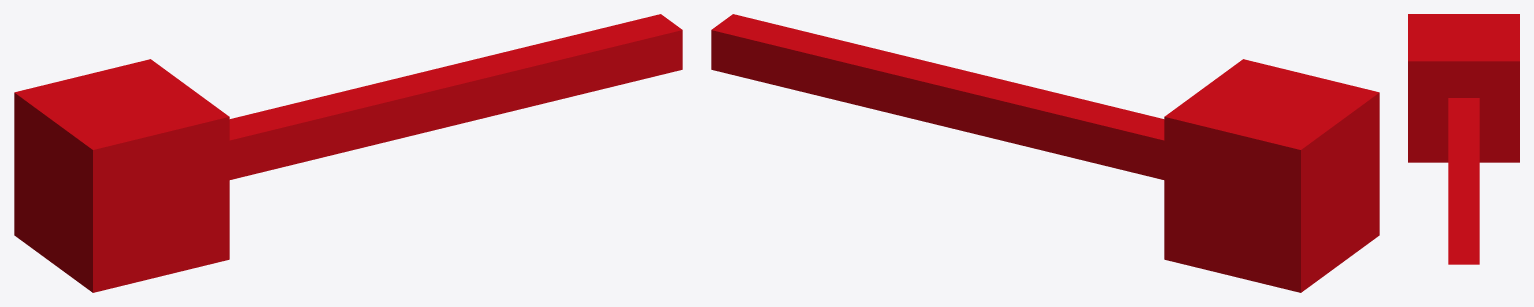
Rendered from scale-gizmo-x.glb.
The picture shows the model from 3 angles, left to right: view 1: azimuth 30°, elevation 25°; view 2: azimuth 150°, elevation 25°; view 3: azimuth 270°, elevation 25°; orthographic projection. The views are drawn at different scales.
Parts seen in each view (by area): view 1: scale-gizmo-x; view 2: scale-gizmo-x; view 3: scale-gizmo-x.
Boxes of the visible parts, <box> form: scale-gizmo-x: <box>14,14,682,292</box>; scale-gizmo-x: <box>711,14,1379,292</box>; scale-gizmo-x: <box>1408,14,1519,264</box>.
Size of the model in its own units: 3.26 by 0.72 by 0.72.
